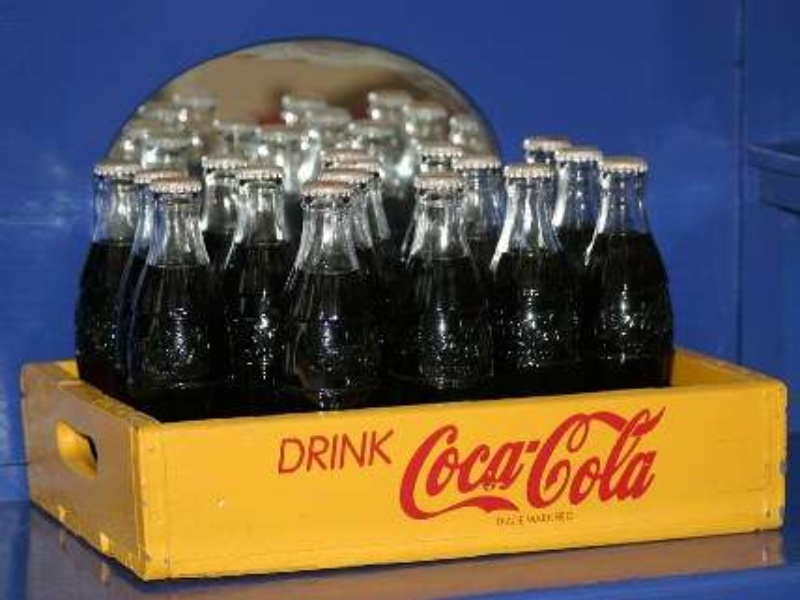Glass bottle: (183, 174, 321, 430), (273, 163, 382, 430), (382, 163, 508, 391), (563, 144, 674, 390), (119, 167, 224, 410), (475, 160, 577, 390), (61, 149, 149, 377), (106, 149, 195, 334), (323, 135, 411, 305), (522, 133, 616, 259), (435, 128, 500, 248)
